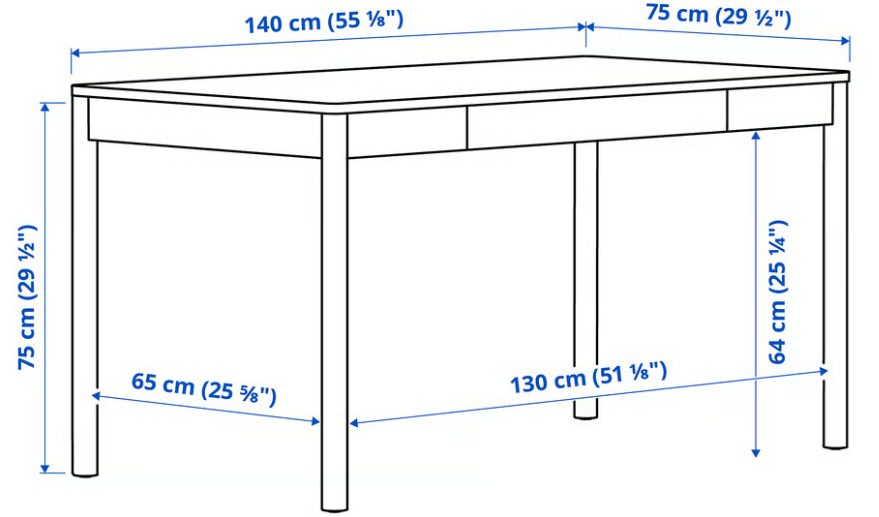table_drawer: (467, 90, 728, 150), (348, 106, 467, 159), (727, 84, 834, 132)
table_legs: (322, 113, 348, 512), (72, 96, 97, 477), (824, 82, 848, 449), (575, 141, 597, 418)
table_support: (89, 97, 322, 159)
table_top: (72, 55, 851, 113)
